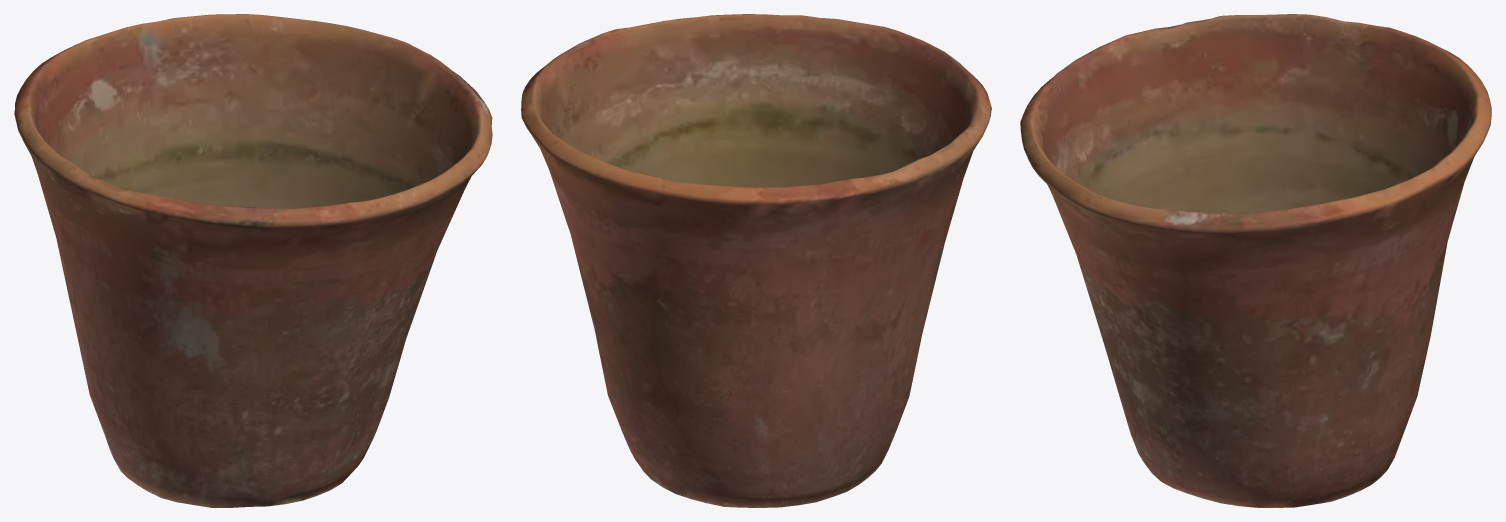
File: planter_pot_clay.glb
3 renders of one model, left to right at view 1: azimuth 30°, elevation 25°; view 2: azimuth 150°, elevation 25°; view 3: azimuth 270°, elevation 25°, orthographic.
Parts seen in each view (by area): view 1: planter_pot_clay; view 2: planter_pot_clay; view 3: planter_pot_clay.
Part boxes in pixels (x1,y1,x2,y2): planter_pot_clay: (14, 14, 492, 507); planter_pot_clay: (521, 14, 991, 507); planter_pot_clay: (1020, 14, 1491, 507).
Bounding box in the file's own units: 0.266 × 0.2219 × 0.2635.
Materials: 1 (1 with a texture image).
